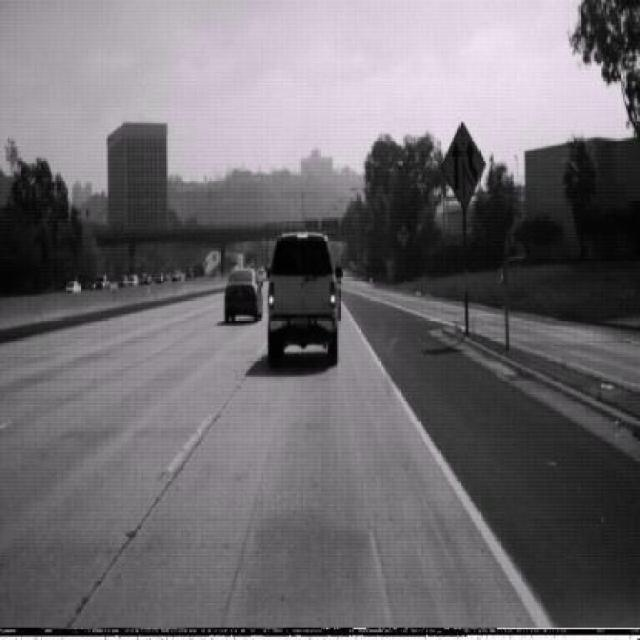addedLane: (440, 120, 485, 209)
